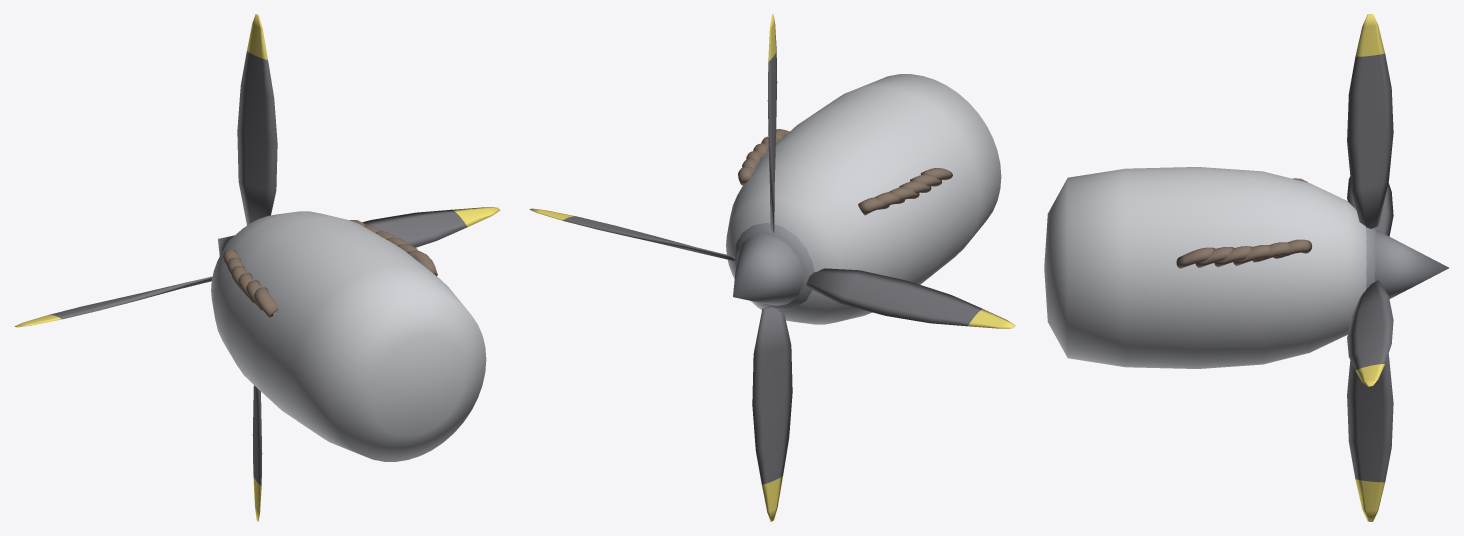
Rendered from prop_engine_big.glb.
3 views of the same model, side by side, from view 1: azimuth 30°, elevation 25°; view 2: azimuth 150°, elevation 25°; view 3: azimuth 270°, elevation 25° (orthographic).
Parts seen in each view (by area): view 1: Cowl, Prop; view 2: Cowl, Prop; view 3: Cowl, Prop.
Part boxes in pixels (box(x1,y1,x2,y2)): Cowl: box(211, 211, 486, 461); Prop: box(14, 14, 500, 521); Cowl: box(726, 74, 1001, 324); Prop: box(529, 14, 1015, 521); Cowl: box(1044, 167, 1366, 368); Prop: box(1347, 14, 1448, 521).
Bounding box in the file's own units: 3.1 × 3.1 × 2.24.
